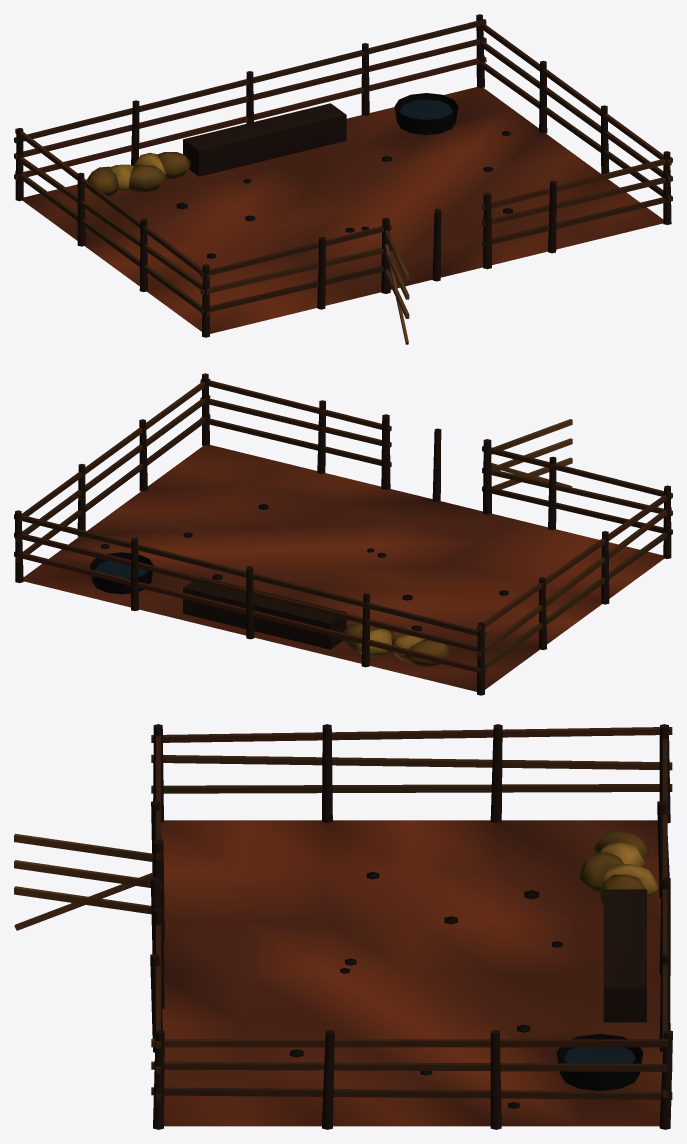
Rendered from fm_pen.glb.
3 renders of one model, top to bottom at view 1: azimuth 30°, elevation 25°; view 2: azimuth 150°, elevation 25°; view 3: azimuth 270°, elevation 25°, orthographic. The views are drawn at different scales.
Parts seen in each view (by area): view 1: fm_pen; view 2: fm_pen; view 3: fm_pen.
Part boxes in pixels (x1,y1,x2,y2): fm_pen: [14, 14, 672, 344]; fm_pen: [14, 373, 672, 695]; fm_pen: [14, 724, 672, 1129].
Size of the model in its own units: 10.2 by 1.65 by 9.11.
